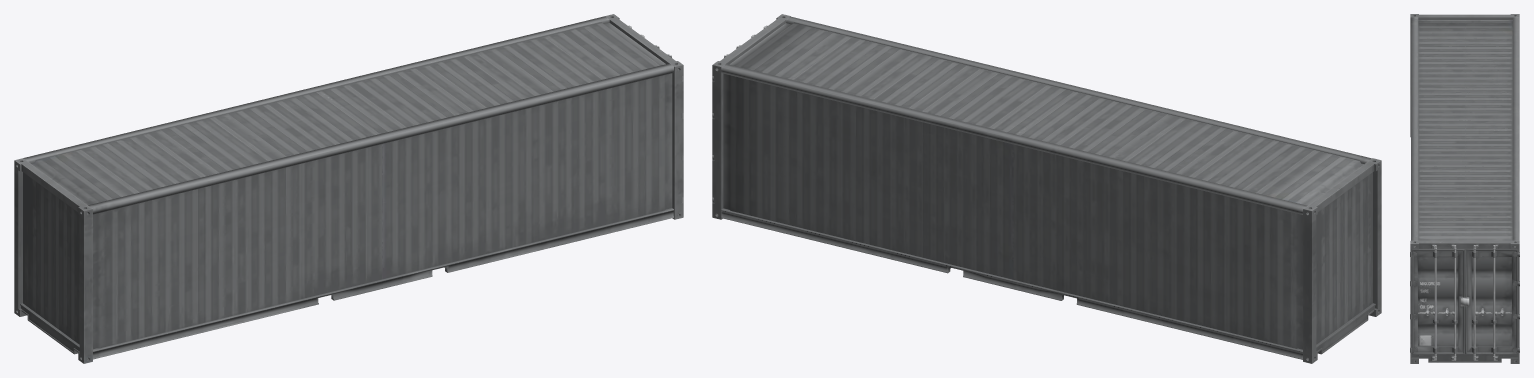
The model's file is container.glb.
The picture shows the model from 3 angles, left to right: view 1: azimuth 30°, elevation 25°; view 2: azimuth 150°, elevation 25°; view 3: azimuth 270°, elevation 25°; orthographic projection. The views are drawn at different scales.
Parts seen in each view (by area): view 1: Object_104; view 2: Object_104; view 3: Object_104.
Boxes of the visible parts, <box> form: Object_104: <box>14,14,683,363</box>; Object_104: <box>712,14,1381,363</box>; Object_104: <box>1410,14,1519,363</box>.
Size of the model in its own units: 12.07 by 2.92 by 2.43.
1 material, 1 textured.
